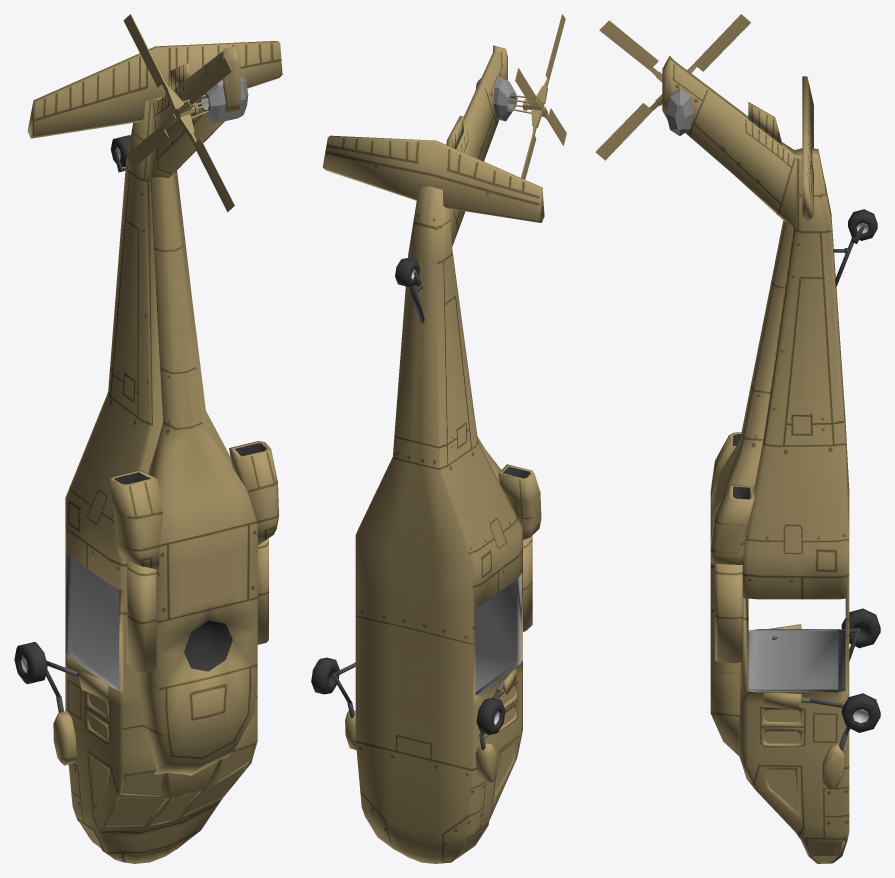
The model's file is helibody.obj.
The picture shows the model from 3 angles, left to right: view 1: azimuth 30°, elevation 25°; view 2: azimuth 150°, elevation 25°; view 3: azimuth 270°, elevation 25°; orthographic projection. The views are drawn at different scales.
Visible parts, largest first — view 1: Cube.005; view 2: Cube.005; view 3: Cube.005.
Boxes of the visible parts, left/top/right/bottom form: Cube.005: left=14, top=14, right=282, bottom=863; Cube.005: left=311, top=14, right=566, bottom=863; Cube.005: left=595, top=14, right=880, bottom=863.
Bounding box in the file's own units: 3.29 × 11.34 × 3.57.
Materials: 3 (3 with a texture image).
